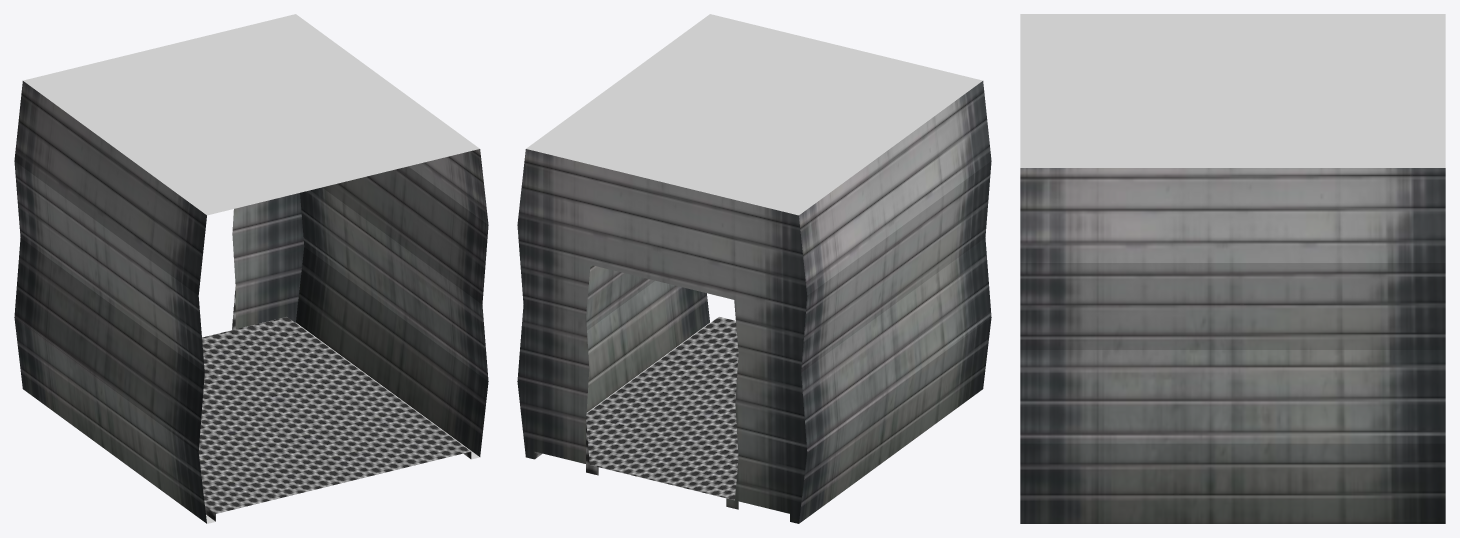
The model's file is Large_to_Small_Hallway.fbx.
3 views of the same model, side by side, from view 1: azimuth 30°, elevation 25°; view 2: azimuth 150°, elevation 25°; view 3: azimuth 270°, elevation 25° (orthographic). The views are drawn at different scales.
Visible parts, largest first — view 1: Large_to_Small_Hallway; view 2: Large_to_Small_Hallway; view 3: Large_to_Small_Hallway.
Boxes of the visible parts, x1,y1,x2,y2 form: Large_to_Small_Hallway: (14, 14, 488, 523); Large_to_Small_Hallway: (517, 14, 991, 523); Large_to_Small_Hallway: (1020, 14, 1445, 523).
Size of the model in its own units: 454 by 463 by 500.
